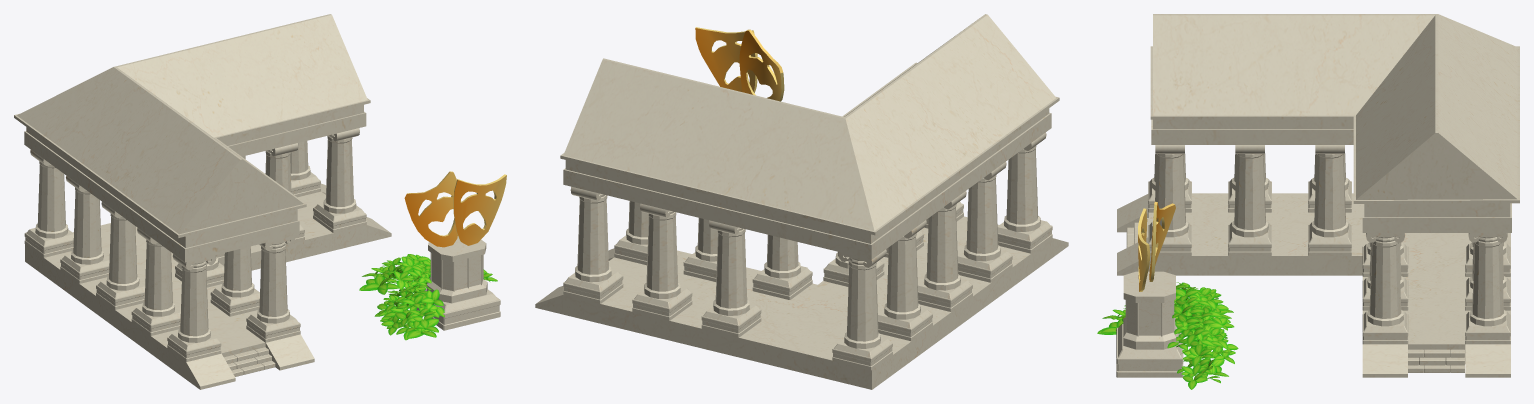
Rendered from Culture_lvl2.fbx.
3 views of the same model, side by side, from view 1: azimuth 30°, elevation 25°; view 2: azimuth 150°, elevation 25°; view 3: azimuth 270°, elevation 25° (orthographic). The views are drawn at different scales.
Visible parts, largest first — view 1: Culture_lvl2; view 2: Culture_lvl2; view 3: Culture_lvl2.
Boxes of the visible parts, <box> form: Culture_lvl2: <box>14,14,506,389</box>; Culture_lvl2: <box>535,14,1068,389</box>; Culture_lvl2: <box>1097,14,1519,389</box>.
Size of the model in its own units: 1343 by 781 by 1296.
Materials: 2 (2 with a texture image).
